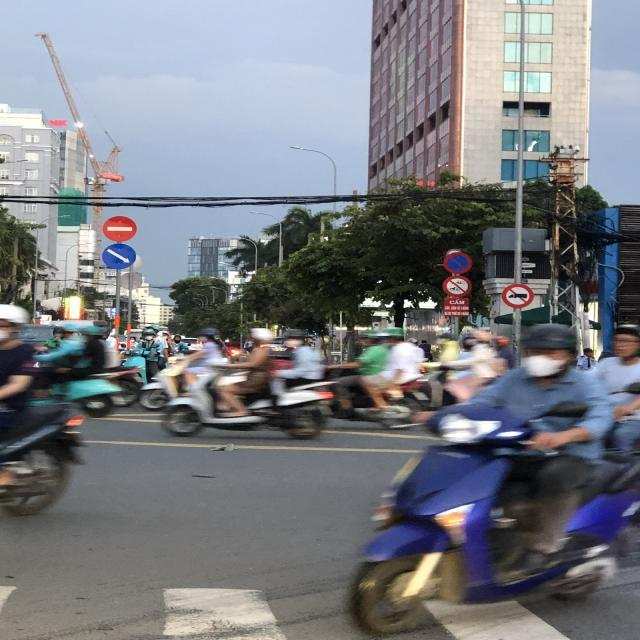Bien bao cam di nguoc chieu: (100, 213, 140, 242)
Bien bao cam do xe: (442, 250, 472, 275)
Bien bao cam xe so-mi ro-mooc: (499, 282, 536, 310)
Bien bao huong phai di vong chuong ngai vat: (102, 241, 138, 270)
